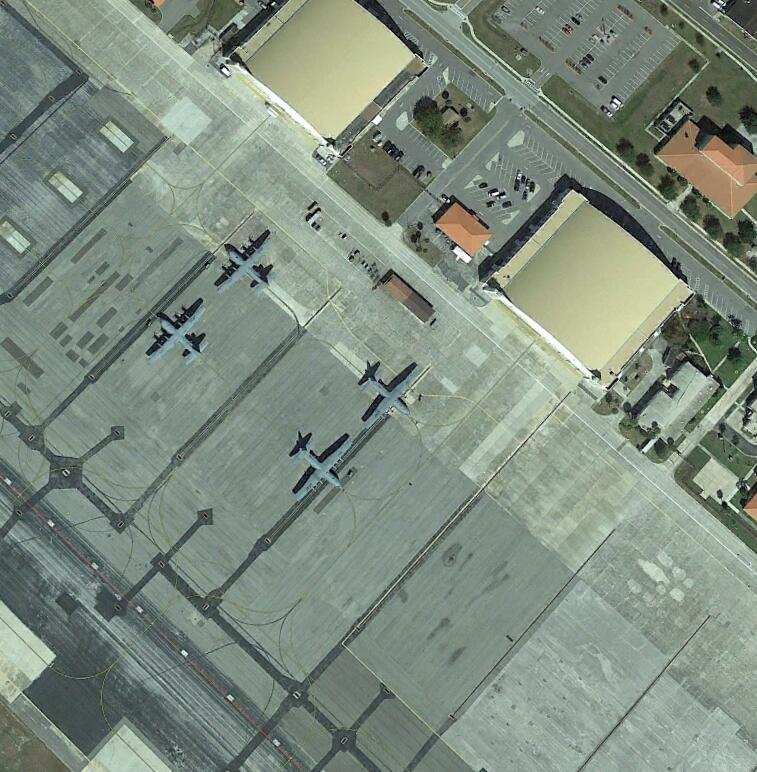A2: (288, 430, 357, 502), (210, 232, 280, 299), (358, 360, 423, 427), (147, 304, 210, 366)
